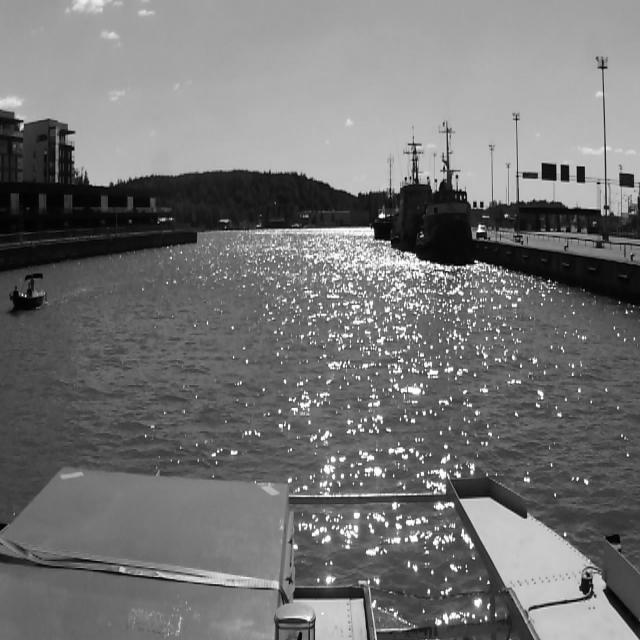ship: (419, 118, 481, 268), (391, 132, 431, 250), (8, 268, 50, 316), (374, 179, 400, 241)
